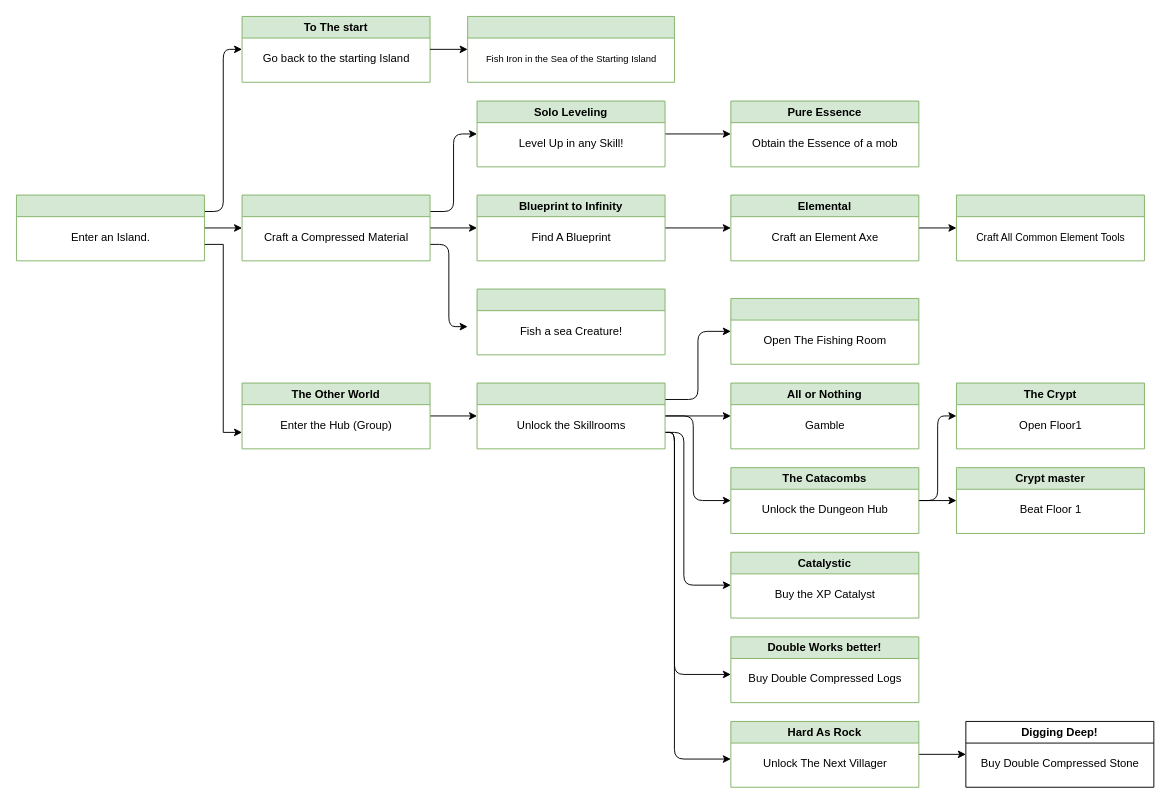
The diagram is 1170 pixels wide and 804 high, and some of its shapes have lost their labels. The box of each missing label's shape, as (x1, y1, x2, y2) in pixels:
Better Fishing: (730, 298, 919, 364)
Compressed Materials: (241, 194, 430, 261)
Element Master: (956, 194, 1144, 261)
Ironized Water: (467, 16, 674, 82)
Ultimate Trading: (476, 382, 665, 449)
Welcome To SkyAttack: (16, 194, 204, 261)
Why is my fish still moving?: (476, 288, 665, 355)
